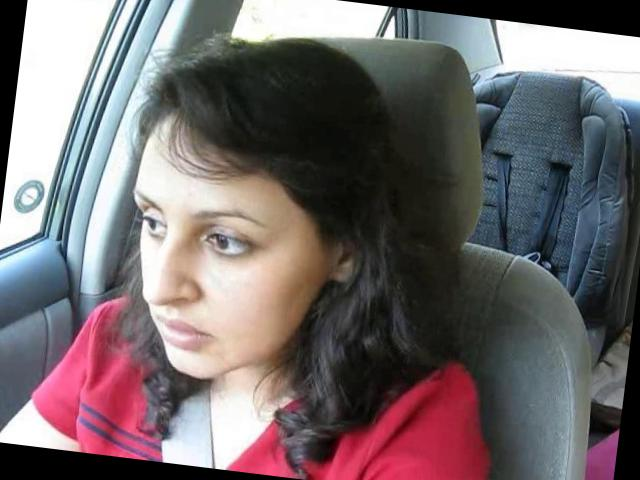eye_open: (194, 222, 262, 270), (136, 208, 168, 243)
face: (117, 170, 320, 392)
